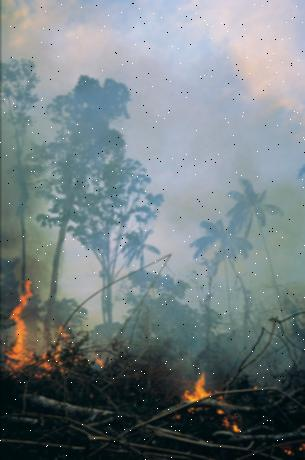fire: (0, 280, 101, 398), (158, 373, 270, 449)
